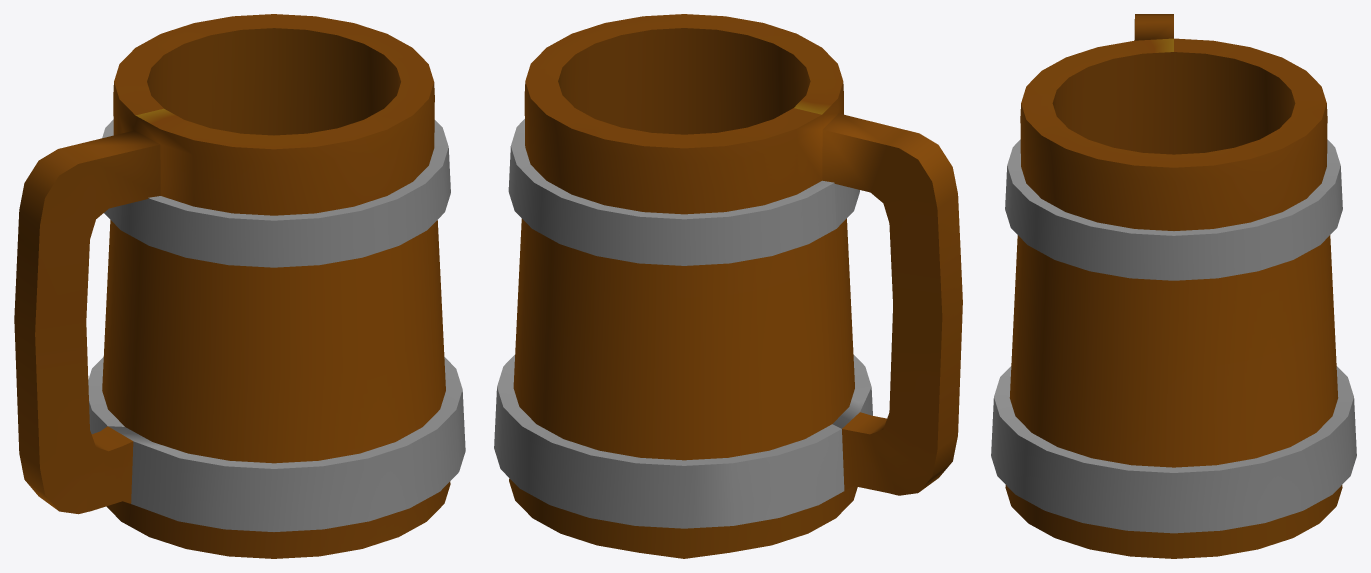
The model's file is beer_empty 1.fbx.
3 views of the same model, side by side, from view 1: azimuth 30°, elevation 25°; view 2: azimuth 150°, elevation 25°; view 3: azimuth 270°, elevation 25° (orthographic). The views are drawn at different scales.
Visible parts, largest first — view 1: Cylinder; view 2: Cylinder; view 3: Cylinder.
Boxes of the visible parts, <box> form: Cylinder: <box>14,14,465,558</box>; Cylinder: <box>494,14,962,558</box>; Cylinder: <box>991,14,1356,558</box>.
Bounding box in the file's own units: 22.1 × 20.15 × 17.23.
